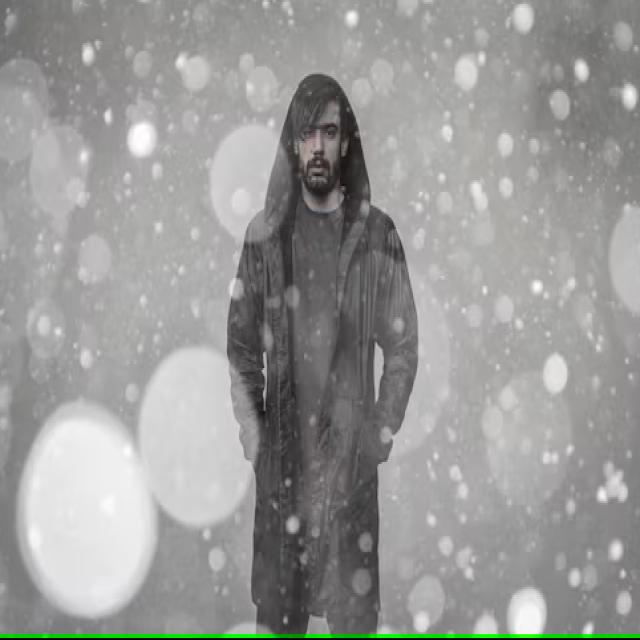Edited images: (219, 56, 430, 640)
